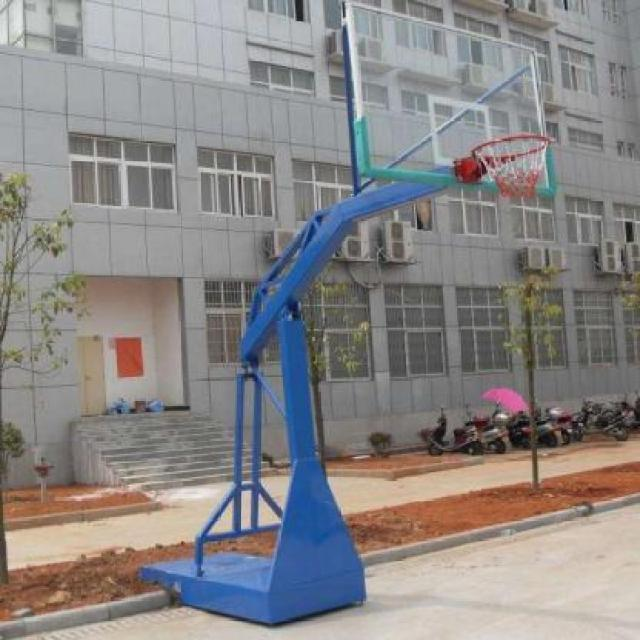rim: (474, 134, 550, 202)
